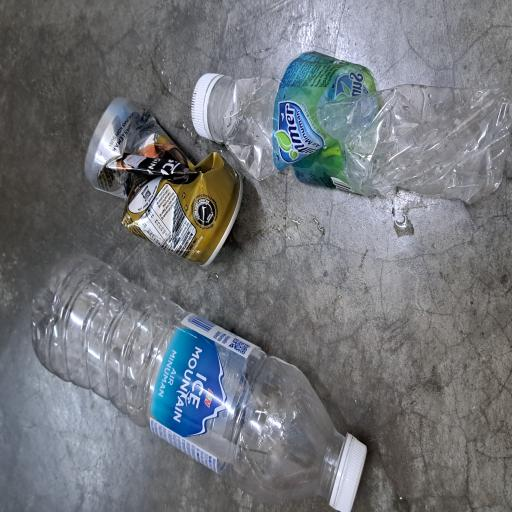can: (186, 116, 308, 331)
plastic bottle: (4, 46, 191, 462), (237, 298, 340, 512)
plastic bottle cap: (0, 438, 58, 490), (281, 255, 334, 295)
